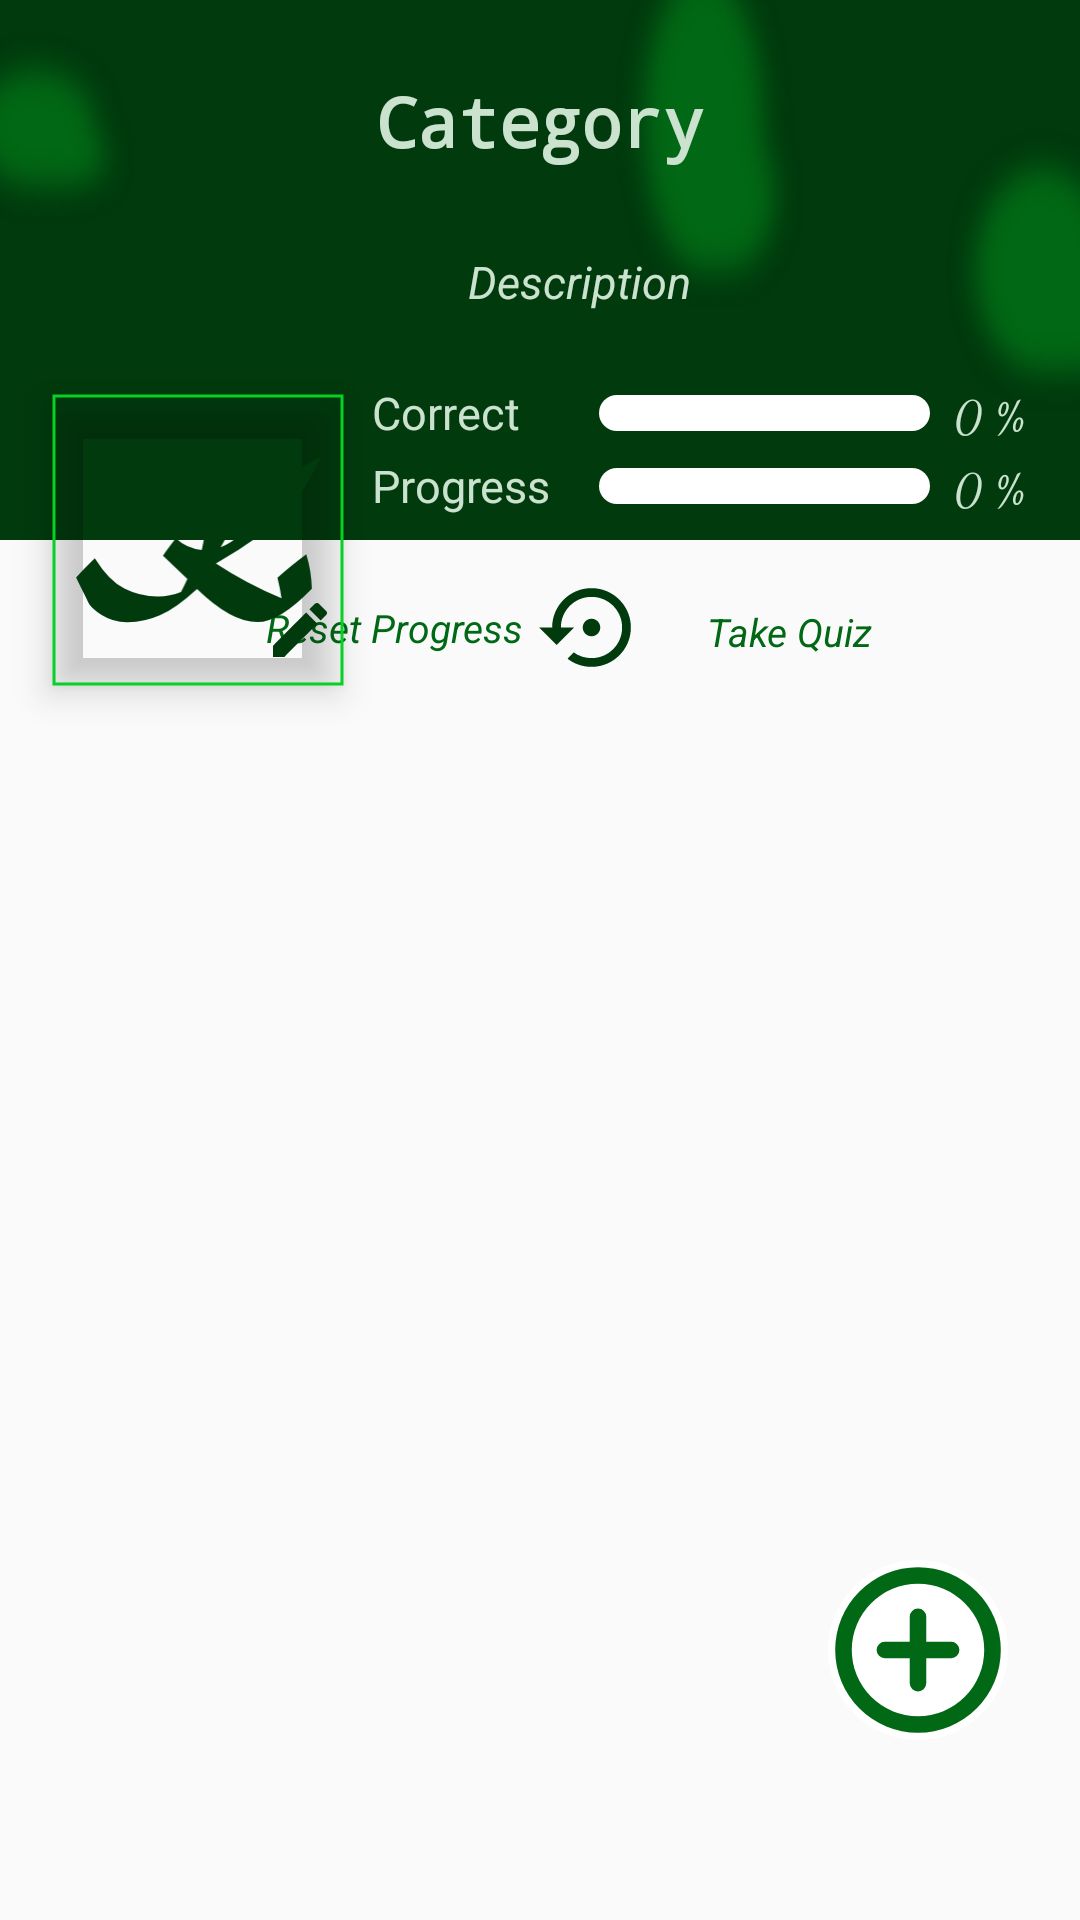

Icons on this 1080 × 1920 Android screen, each with the point to tap as (x,y):
add: (918,1650)
